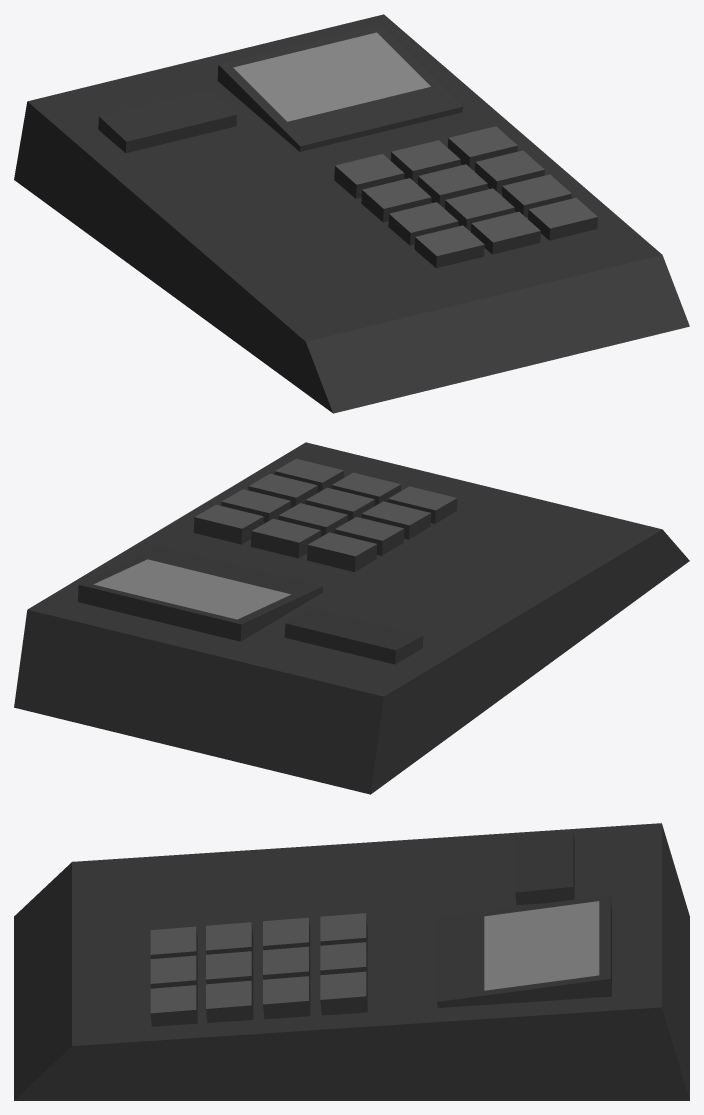
Rendered from Phone_A_Base.obj.
The picture shows the model from 3 angles, top to bottom: view 1: azimuth 30°, elevation 25°; view 2: azimuth 150°, elevation 25°; view 3: azimuth 270°, elevation 25°; orthographic projection. The views are drawn at different scales.
Visible parts, largest first — view 1: Phone_A_Base; view 2: Phone_A_Base; view 3: Phone_A_Base.
Boxes of the visible parts, x1,y1,x2,y2 form: Phone_A_Base: [14, 14, 689, 413]; Phone_A_Base: [14, 442, 689, 794]; Phone_A_Base: [14, 823, 689, 1100].
Size of the model in its own units: 0.2047 by 0.056 by 0.3175.
